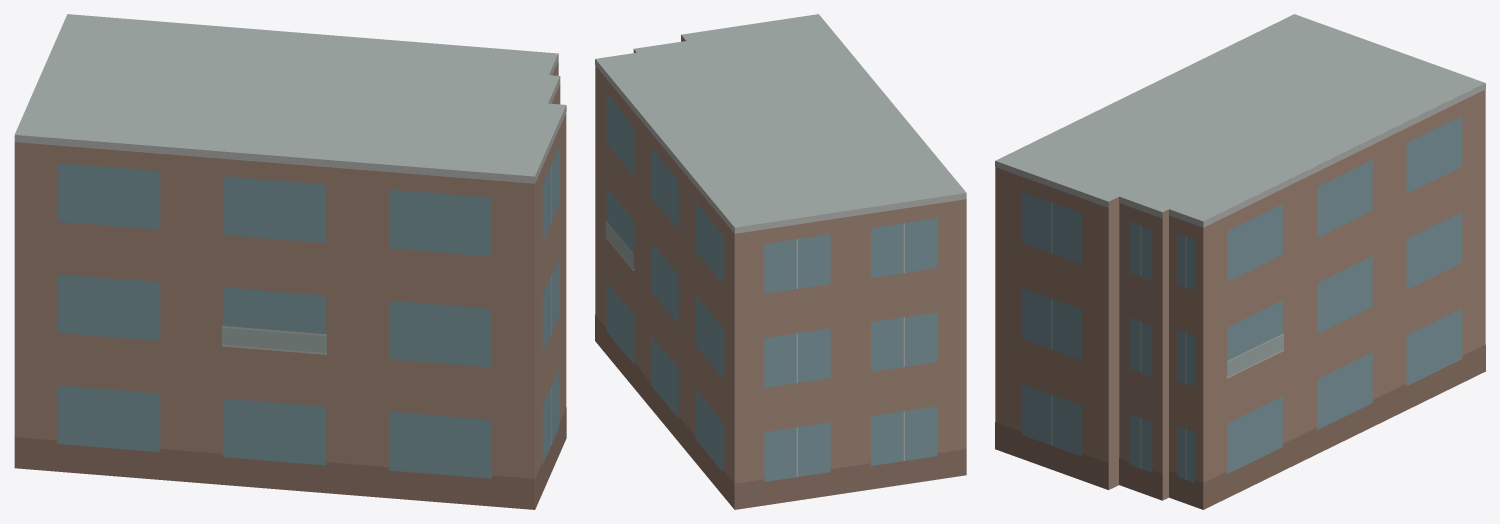
The model's file is survey-upis-32798008.glb.
The picture shows the model from 3 angles, left to right: view 1: azimuth 30°, elevation 25°; view 2: azimuth 150°, elevation 25°; view 3: azimuth 270°, elevation 25°; orthographic projection. The views are drawn at different scales.
Visible parts, largest first — view 1: survey-upis-32798008.tmp; view 2: survey-upis-32798008.tmp; view 3: survey-upis-32798008.tmp.
Part boxes in pixels (x1,y1,x2,y2): survey-upis-32798008.tmp: [14, 14, 566, 509]; survey-upis-32798008.tmp: [595, 14, 966, 509]; survey-upis-32798008.tmp: [995, 14, 1485, 509].
Size of the model in its own units: 17.29 by 11.2 by 17.27.
